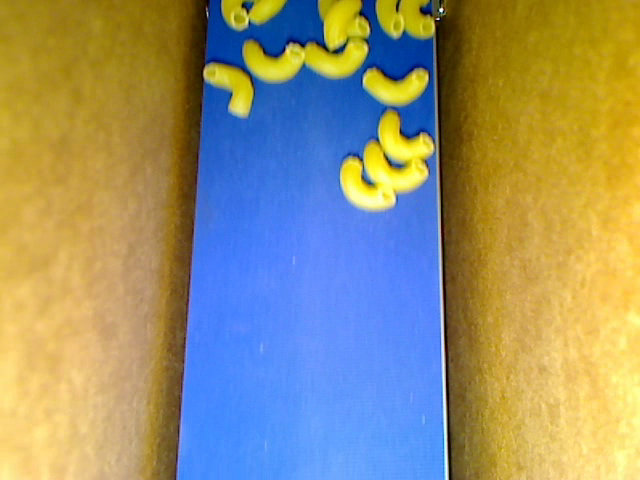elbow: (362, 137, 428, 195), (377, 107, 435, 165), (339, 155, 397, 212), (201, 62, 254, 118), (241, 39, 306, 83), (304, 37, 369, 80), (361, 67, 428, 107), (317, 1, 371, 42), (323, 1, 361, 52), (397, 1, 436, 40), (375, 1, 403, 39), (248, 1, 288, 27), (220, 1, 249, 32)
